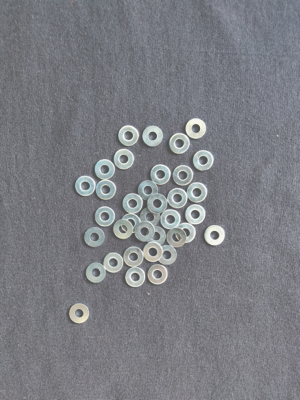circle: (142, 125, 165, 149), (184, 116, 207, 140), (142, 241, 164, 264), (204, 224, 226, 247), (117, 125, 139, 147), (123, 245, 145, 267), (172, 165, 194, 187), (193, 150, 215, 172), (86, 263, 107, 286), (148, 263, 169, 286), (176, 221, 197, 244), (84, 228, 106, 249), (94, 159, 115, 181), (112, 219, 134, 240), (122, 193, 144, 214), (134, 222, 156, 243), (139, 207, 161, 228), (149, 164, 171, 185), (125, 268, 147, 289), (157, 245, 178, 267), (160, 209, 182, 230), (185, 205, 207, 226), (167, 188, 188, 210), (169, 133, 190, 155), (187, 181, 208, 203), (113, 149, 134, 170), (121, 213, 142, 234), (103, 252, 124, 273), (166, 228, 187, 249), (69, 305, 91, 325), (75, 176, 95, 198), (137, 180, 157, 202), (147, 194, 168, 214), (95, 207, 115, 227), (96, 180, 116, 200), (146, 227, 166, 247)
